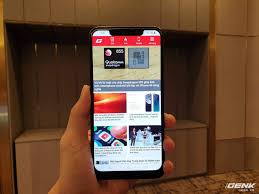vsmart: (90, 25, 166, 178)
